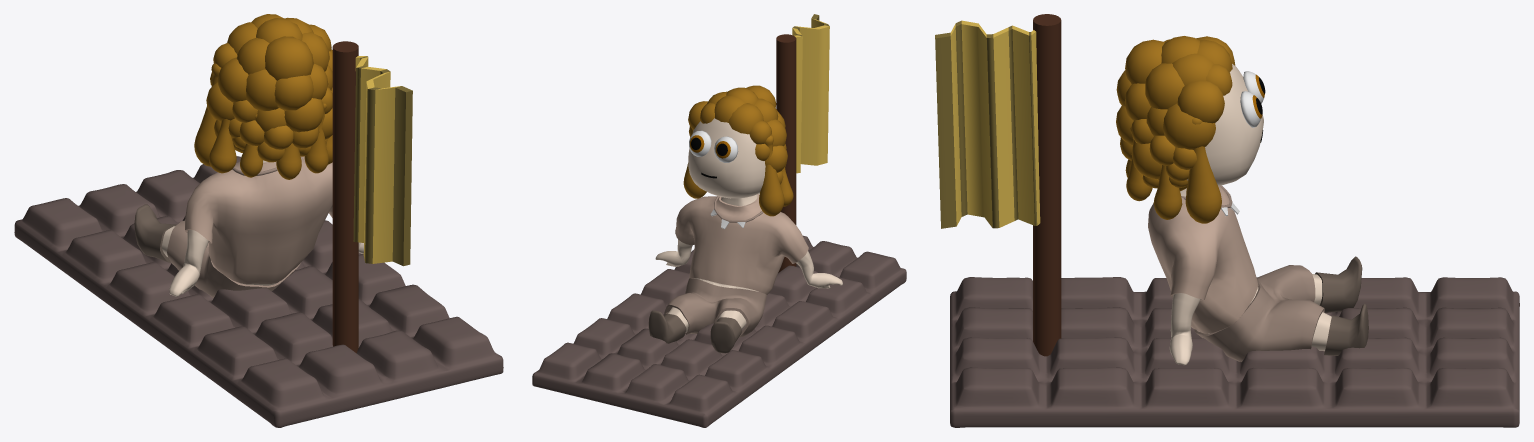
The model's file is DavidHamelechBoat.fbx.
The picture shows the model from 3 angles, left to right: view 1: azimuth 30°, elevation 25°; view 2: azimuth 150°, elevation 25°; view 3: azimuth 270°, elevation 25°; orthographic projection. The views are drawn at different scales.
Visible parts, largest first — view 1: polySurface302, pasted__pTorus1; view 2: polySurface302, pasted__pTorus1; view 3: polySurface302, pasted__pTorus1.
Part boxes in pixels (<box>): polySurface302: <box>14,41,503,427</box>; pasted__pTorus1: <box>134,14,363,297</box>; polySurface302: <box>532,14,906,427</box>; pasted__pTorus1: <box>648,85,842,353</box>; polySurface302: <box>935,14,1519,427</box>; pasted__pTorus1: <box>1116,36,1368,365</box>.
Bounding box in the file's own units: 10.88 × 14.05 × 21.32.
